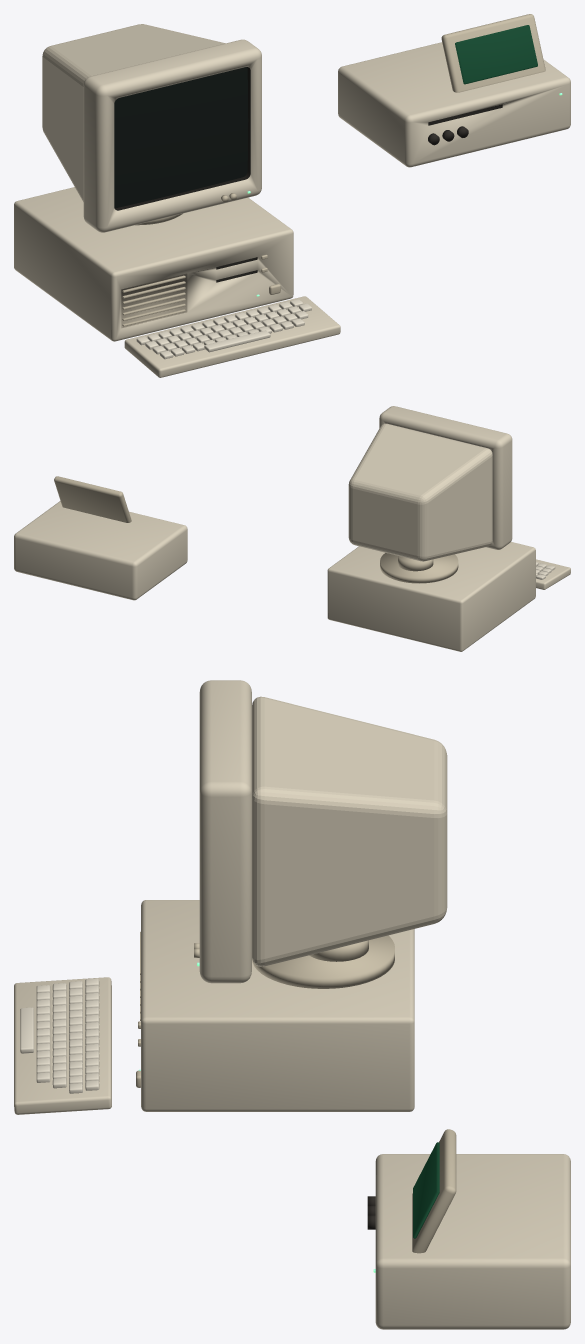
Rendered from workstation.glb.
3 views of the same model, one above another, from view 1: azimuth 30°, elevation 25°; view 2: azimuth 150°, elevation 25°; view 3: azimuth 270°, elevation 25° (orthographic). The views are drawn at different scales.
Visible parts, largest first — view 1: WS_case, WS_ecg, WS_glass, WS_bezel, WS_housing, WS_kb, WS_ecg_screen, WS_ecg_panel, WS_space; view 2: WS_housing, WS_case, WS_ecg, WS_bezel, WS_ecg_panel, WS_foot, WS_kb, WS_neck; view 3: WS_housing, WS_case, WS_ecg, WS_bezel, WS_kb, WS_foot, WS_ecg_panel, WS_ecg_screen.
Part boxes in pixels (left/top/right/bottom): WS_case: left=14, top=187, right=293, bottom=341; WS_ecg: left=338, top=42, right=570, bottom=167; WS_glass: left=114, top=67, right=248, bottom=208; WS_bezel: left=83, top=39, right=261, bottom=232; WS_housing: left=42, top=24, right=225, bottom=201; WS_kb: left=124, top=296, right=340, bottom=377; WS_ecg_screen: left=455, top=25, right=537, bottom=84; WS_ecg_panel: left=441, top=14, right=545, bottom=92; WS_space: left=204, top=330, right=270, bottom=352; WS_housing: left=348, top=423, right=492, bottom=561; WS_case: left=327, top=542, right=535, bottom=651; WS_ecg: left=14, top=501, right=187, bottom=600; WS_bezel: left=379, top=406, right=512, bottom=549; WS_ecg_panel: left=54, top=476, right=131, bottom=522; WS_foot: left=380, top=553, right=458, bottom=583; WS_kb: left=536, top=559, right=570, bottom=589; WS_neck: left=398, top=556, right=433, bottom=571; WS_housing: left=252, top=696, right=447, bottom=966; WS_case: left=141, top=900, right=414, bottom=1111; WS_ecg: left=375, top=1154, right=570, bottom=1329; WS_bezel: left=199, top=680, right=251, bottom=983; WS_kb: left=14, top=977, right=111, bottom=1114; WS_foot: left=252, top=935, right=394, bottom=988; WS_ecg_panel: left=412, top=1129, right=456, bottom=1253; WS_ecg_screen: left=413, top=1142, right=439, bottom=1238.
Size of the model in its own units: 1.32 by 0.5489 by 0.8552.
